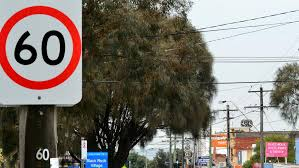Speed_limit_60km: (1, 6, 82, 89)
